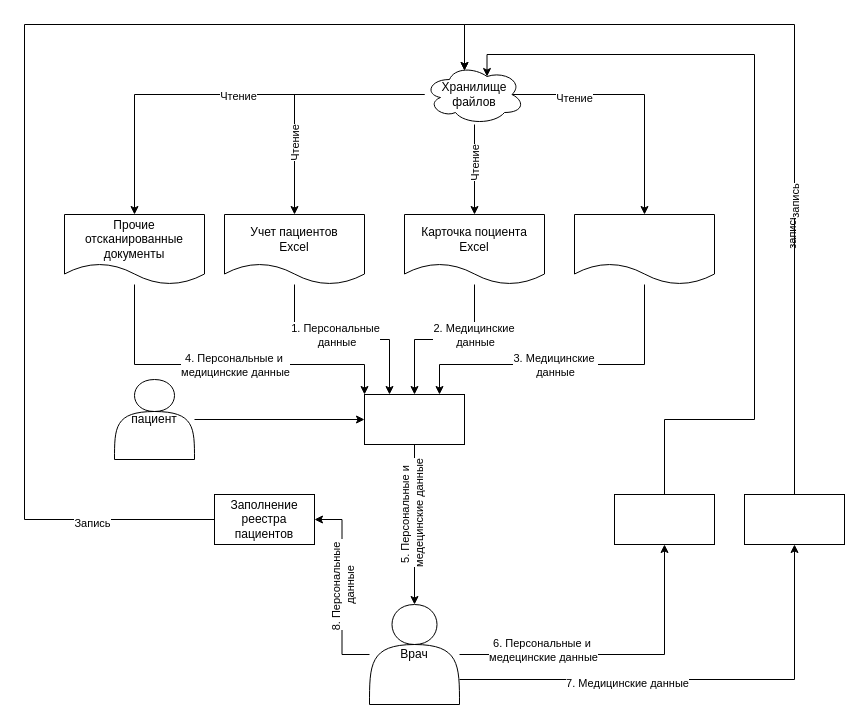
Some shapes in this 862 by 722 pixel diagram are drawn without their labels. The box of each missing label's shape, as (x1, y1, x2, y2) in pixels:
Заполнение карточки пациента: (744, 494, 844, 544)
Прием у врача: (364, 394, 464, 444)
Реестр анаизов Excel: (574, 214, 714, 284)
Сканирование документов: (614, 494, 714, 544)
